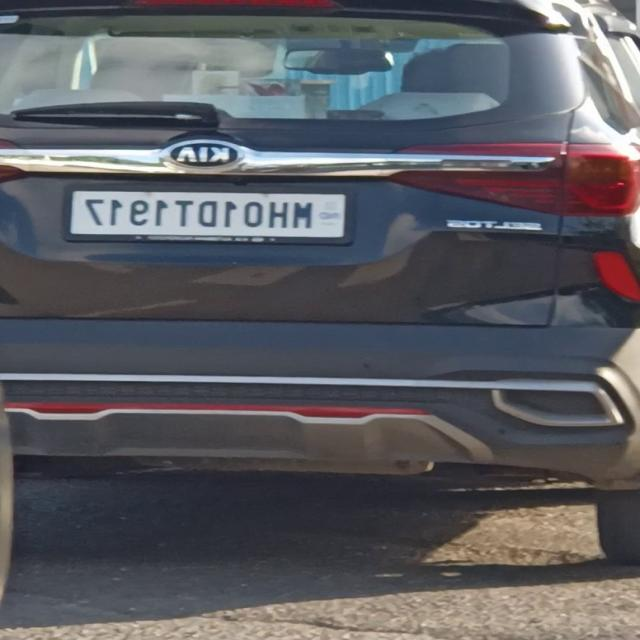license_plate: (56, 181, 358, 250)
